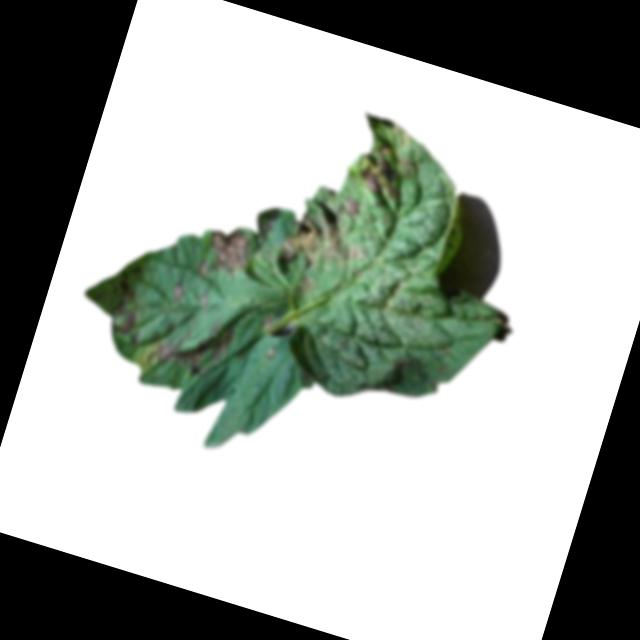Early_blight: (275, 195, 377, 283), (143, 301, 239, 387), (357, 131, 413, 200), (202, 218, 259, 277), (116, 306, 148, 345), (167, 278, 189, 304), (344, 195, 363, 217)
